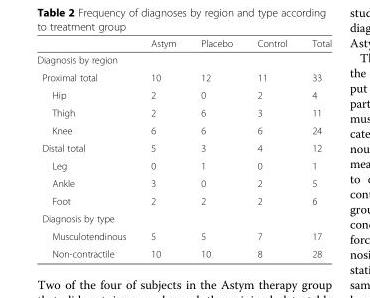table: (36, 37, 331, 259)
table column: (36, 37, 137, 259), (187, 37, 244, 259), (244, 37, 299, 259), (137, 37, 187, 259), (299, 37, 331, 259)
table column header: (36, 37, 331, 51)
table projected row header: (36, 209, 331, 227), (36, 51, 331, 68)
table row: (36, 85, 331, 103), (36, 103, 331, 121), (36, 138, 331, 156), (36, 156, 331, 174), (36, 191, 331, 209), (36, 209, 331, 227), (36, 51, 331, 68), (36, 68, 331, 85), (36, 121, 331, 138), (36, 174, 331, 191), (36, 227, 331, 244), (36, 244, 331, 259), (36, 37, 331, 51)
